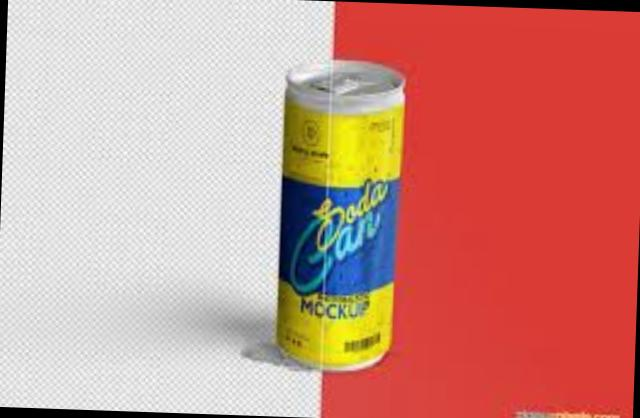metal: (273, 57, 400, 366)
